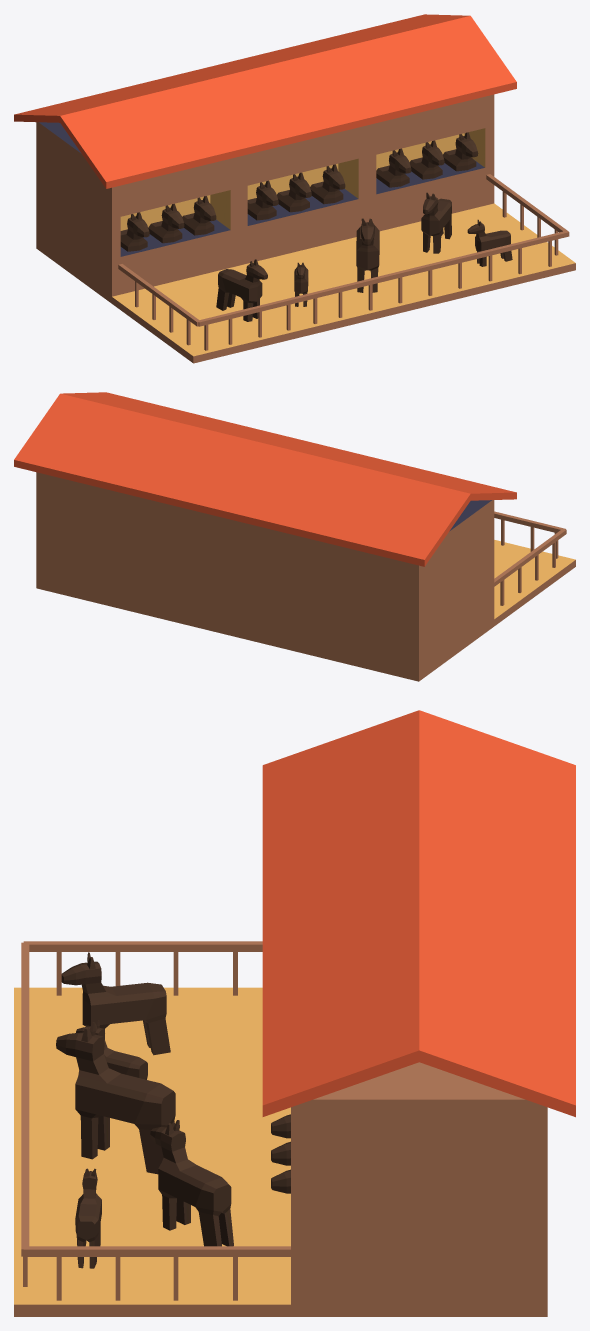
File: Stable.fbx
3 views of the same model, one above another, from view 1: azimuth 30°, elevation 25°; view 2: azimuth 150°, elevation 25°; view 3: azimuth 270°, elevation 25° (orthographic). The views are drawn at different scales.
Parts seen in each view (by area): view 1: Cube.036; view 2: Cube.036; view 3: Cube.036.
Boxes of the visible parts, bbox=[...] form: Cube.036: bbox=[14, 14, 575, 363]; Cube.036: bbox=[14, 392, 575, 681]; Cube.036: bbox=[14, 710, 575, 1316].
Bounding box in the file's own units: 1733 × 660 × 1209.
